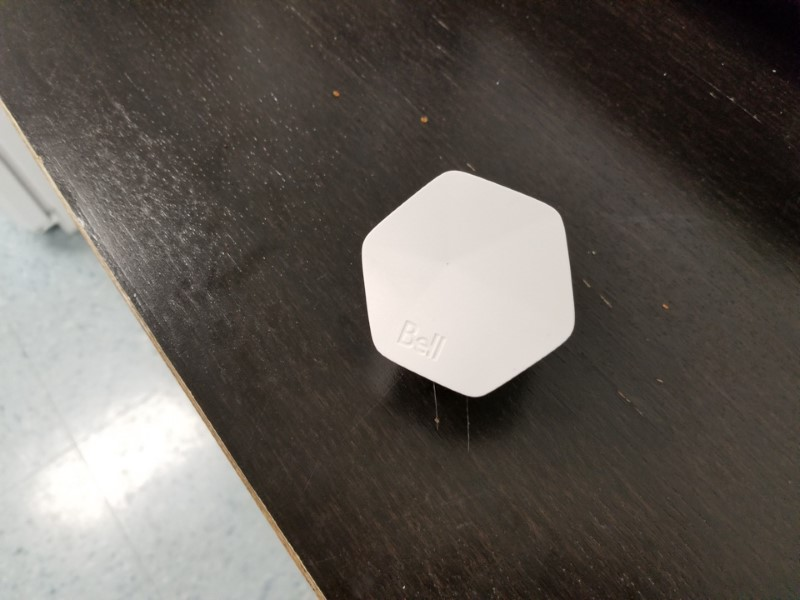pod: (354, 164, 585, 404)
